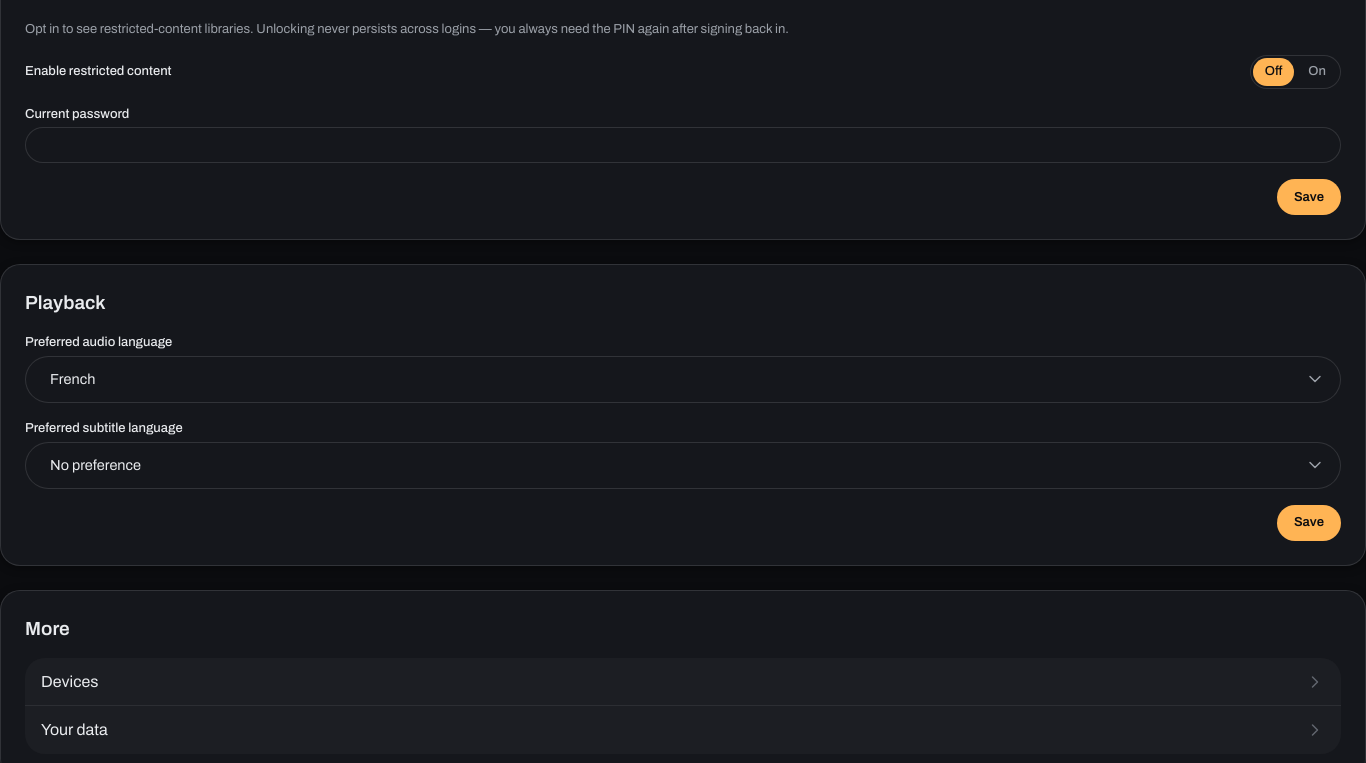
ProfileSettings › Playback preferences (language pickers) › saving sends the picked ISO 639-2 codes, and 'Saved' renders only after the PUT resolves 2xx
(page scrolled)
Select "French" in the dropdown labelled "Preferred audio language" at (683, 379), box [25,356,1341,403]
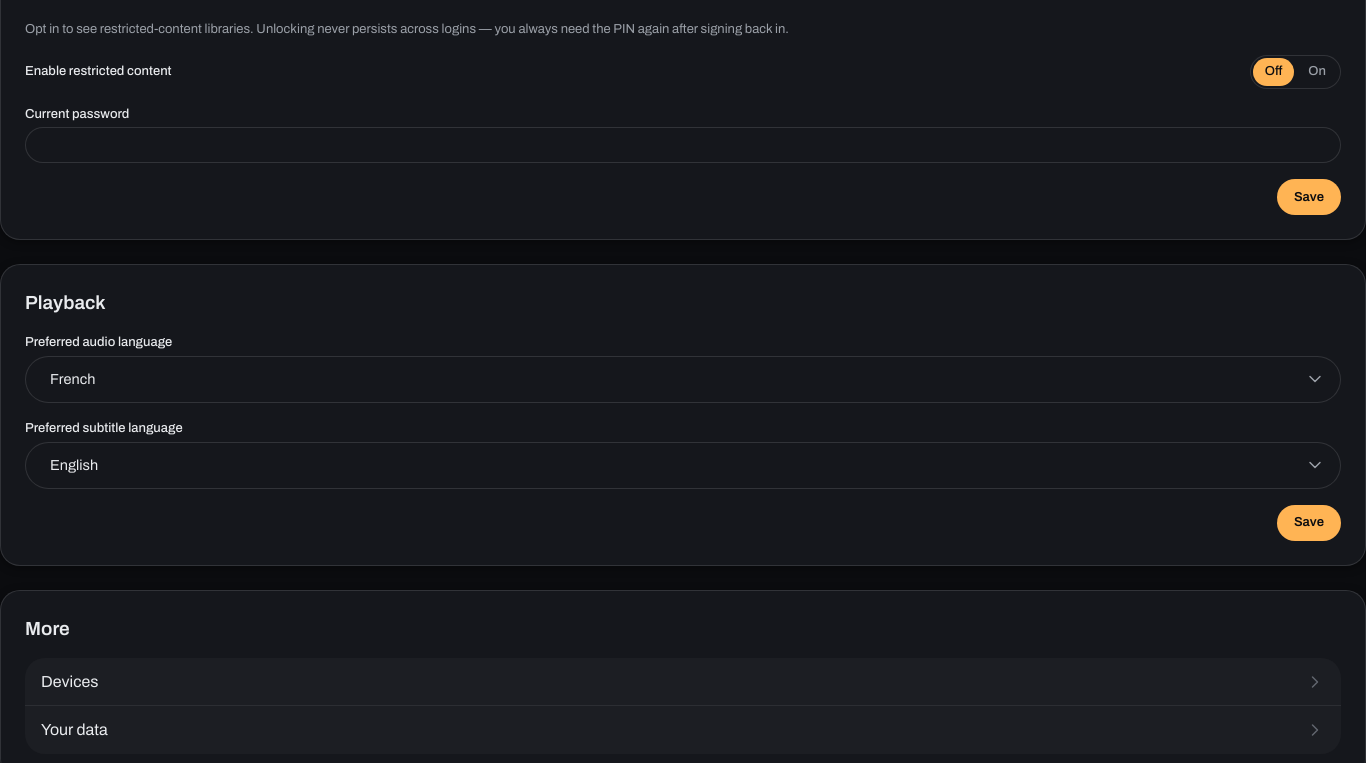
Select "English" in the dropdown labelled "Preferred subtitle language" at (683, 465), box [25,442,1341,489]
Click the 2nd button "Save" at (1309, 523), box [1277,505,1341,541]
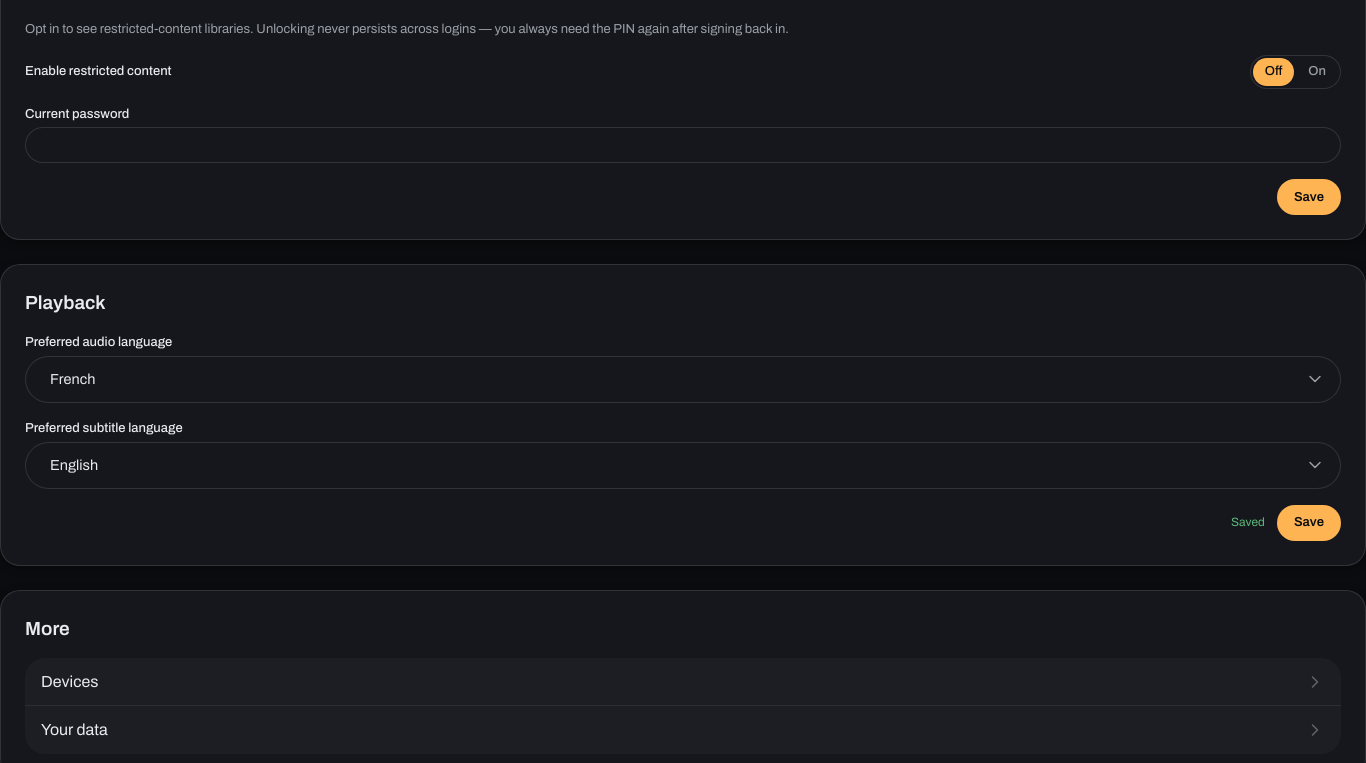
Now the form that starts with "Playback" shows "Saved", box [25,290,1341,541]
